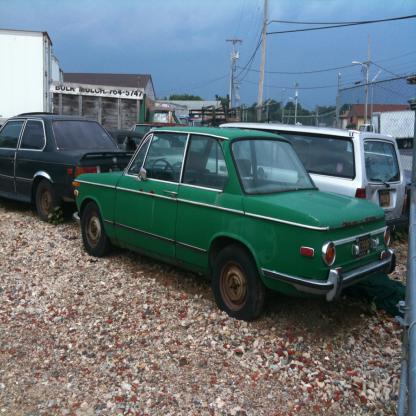Car: (0, 113, 408, 322)
